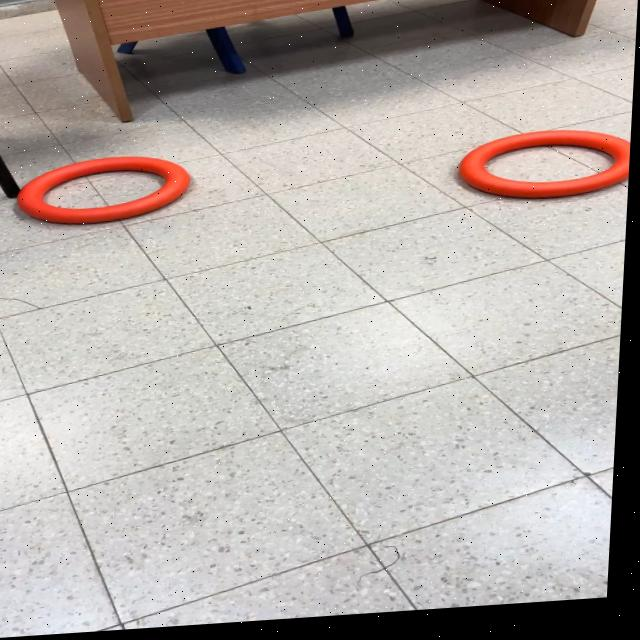note: (15, 153, 198, 231), (457, 133, 632, 213)
